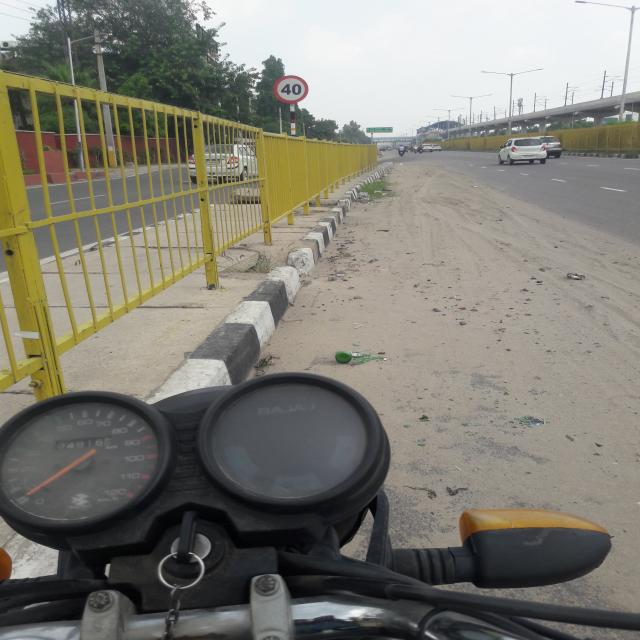GENERAL: (366, 127, 393, 133)
SPEED_LIMIT_40: (273, 75, 309, 104)
